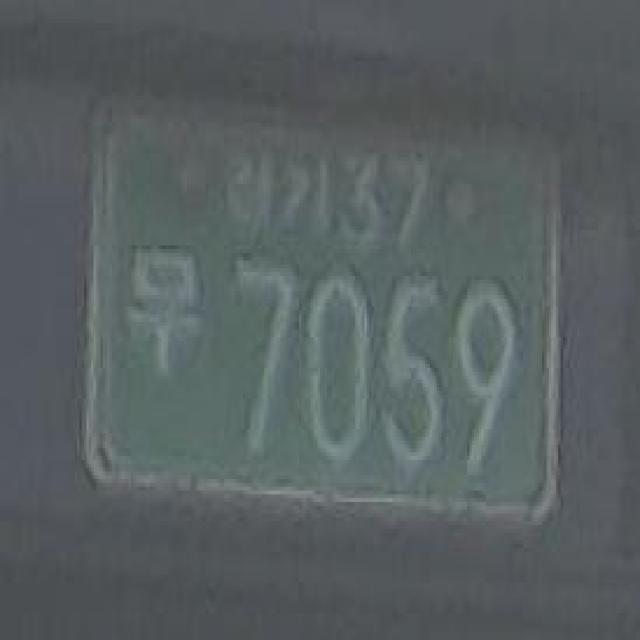illegal_plate: (72, 59, 579, 555)
